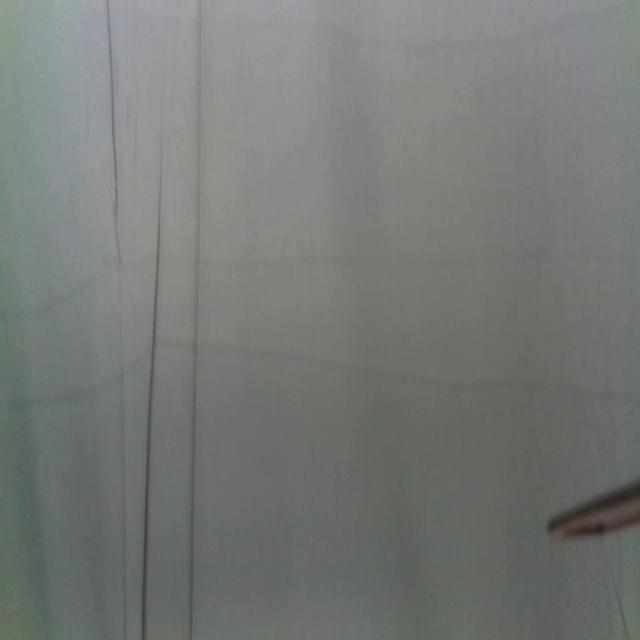color bleeding: (0, 337, 640, 420), (0, 243, 640, 326), (305, 0, 640, 57)
crease: (107, 0, 128, 635), (140, 137, 164, 640), (187, 0, 203, 639)
